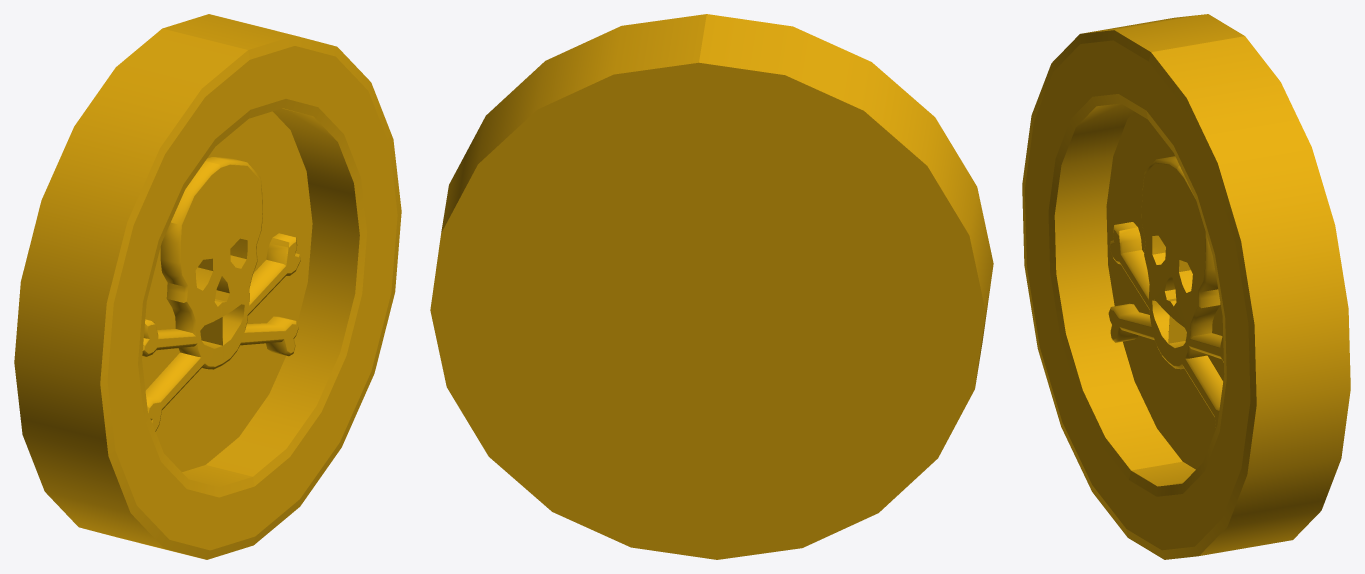
The model's file is Kolikko.fbx.
3 views of the same model, side by side, from view 1: azimuth 30°, elevation 25°; view 2: azimuth 150°, elevation 25°; view 3: azimuth 270°, elevation 25° (orthographic). The views are drawn at different scales.
Visible parts, largest first — view 1: Kolikko2; view 2: Kolikko2; view 3: Kolikko2.
Boxes of the visible parts, left/top/right/bottom form: Kolikko2: left=14, top=14, right=401, bottom=559; Kolikko2: left=430, top=14, right=993, bottom=559; Kolikko2: left=1022, top=14, right=1350, bottom=559.
Bounding box in the file's own units: 89.13 × 91.02 × 55.12.
